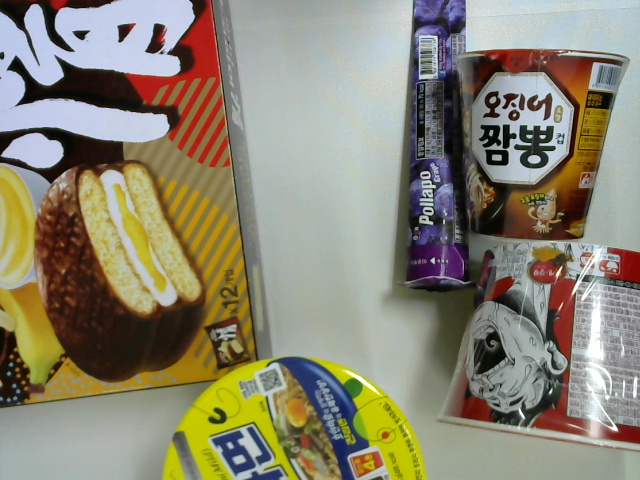Choco_Pie_Banana: (1, 2, 280, 414)
Hejangpul: (431, 233, 640, 458)
Jinlamyeon_Mild_Taste_Large_Cup: (153, 352, 438, 480)
Ojjam: (444, 46, 636, 245)
Polapo_Grape: (392, 1, 484, 298)
